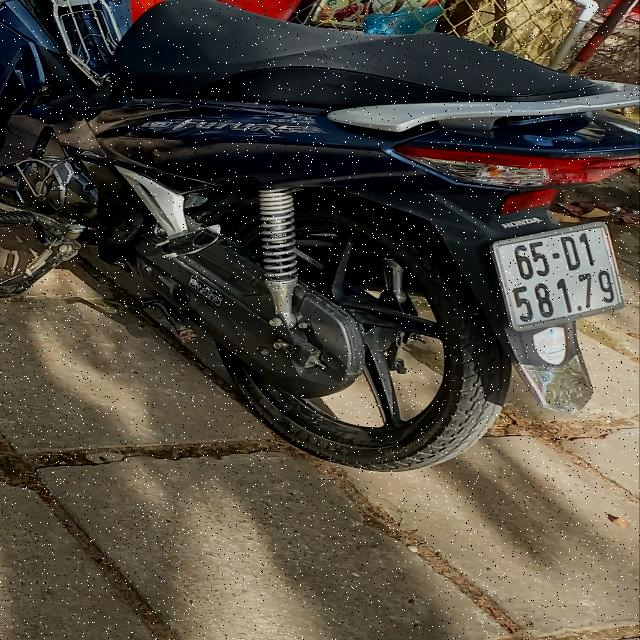1: (579, 232, 595, 266), (556, 278, 570, 314)
5: (530, 240, 550, 276), (513, 286, 533, 322)
6: (514, 244, 532, 281)
7: (579, 272, 592, 308)
8: (534, 283, 556, 318)
9: (598, 269, 614, 303)
D: (560, 237, 581, 270)
